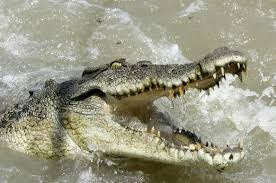crocodile: (1, 44, 251, 175)
